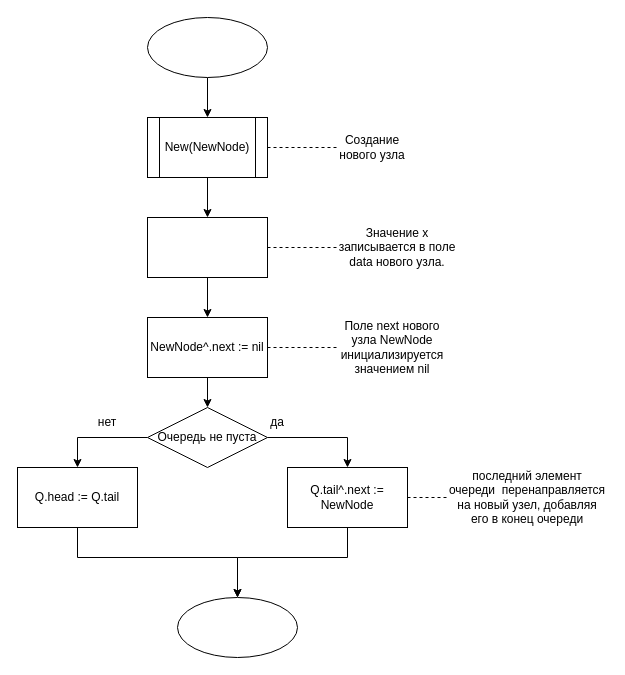
Image size: 625x675. Some labels were removed from this diagram. Here are the shapes that lost their labels. From the top down, the centre of each, then its label:
At pixel 207 47: "Начало PushTail".
At pixel 207 247: "NewNode^.data := x".
At pixel 237 627: "Конец PushTail".
